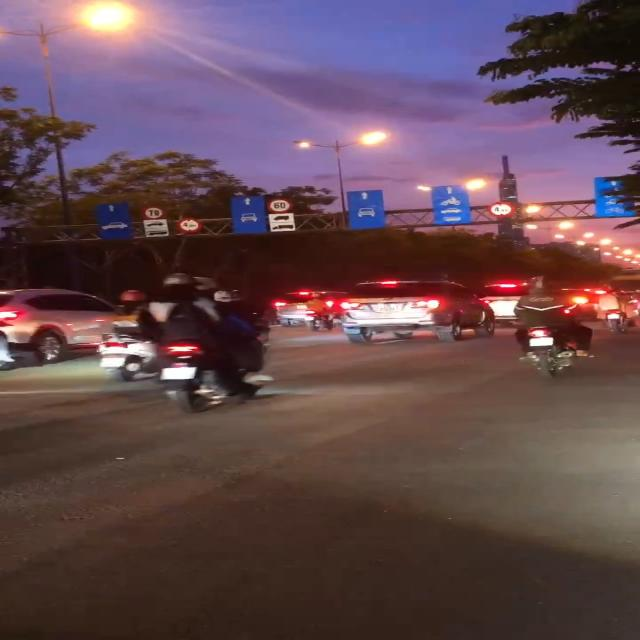Bien bao han che chieu cao: (176, 217, 203, 233)
Bien bao toc do toi da cho phep: (141, 204, 170, 220), (267, 197, 294, 213)
